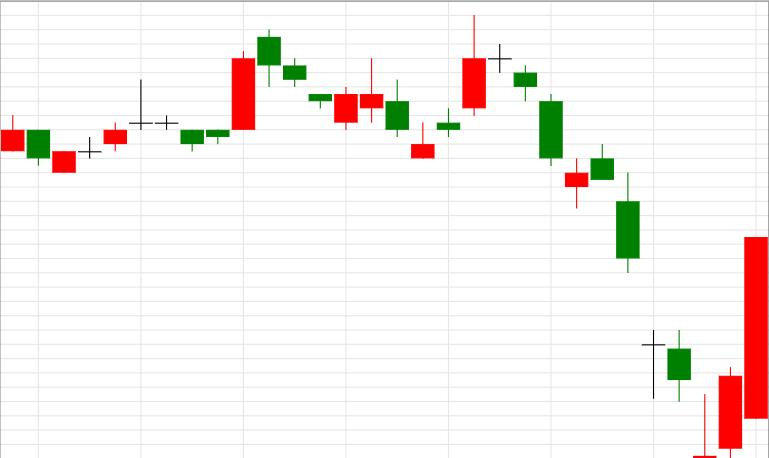evening_star_fall: (411, 15, 537, 158)
